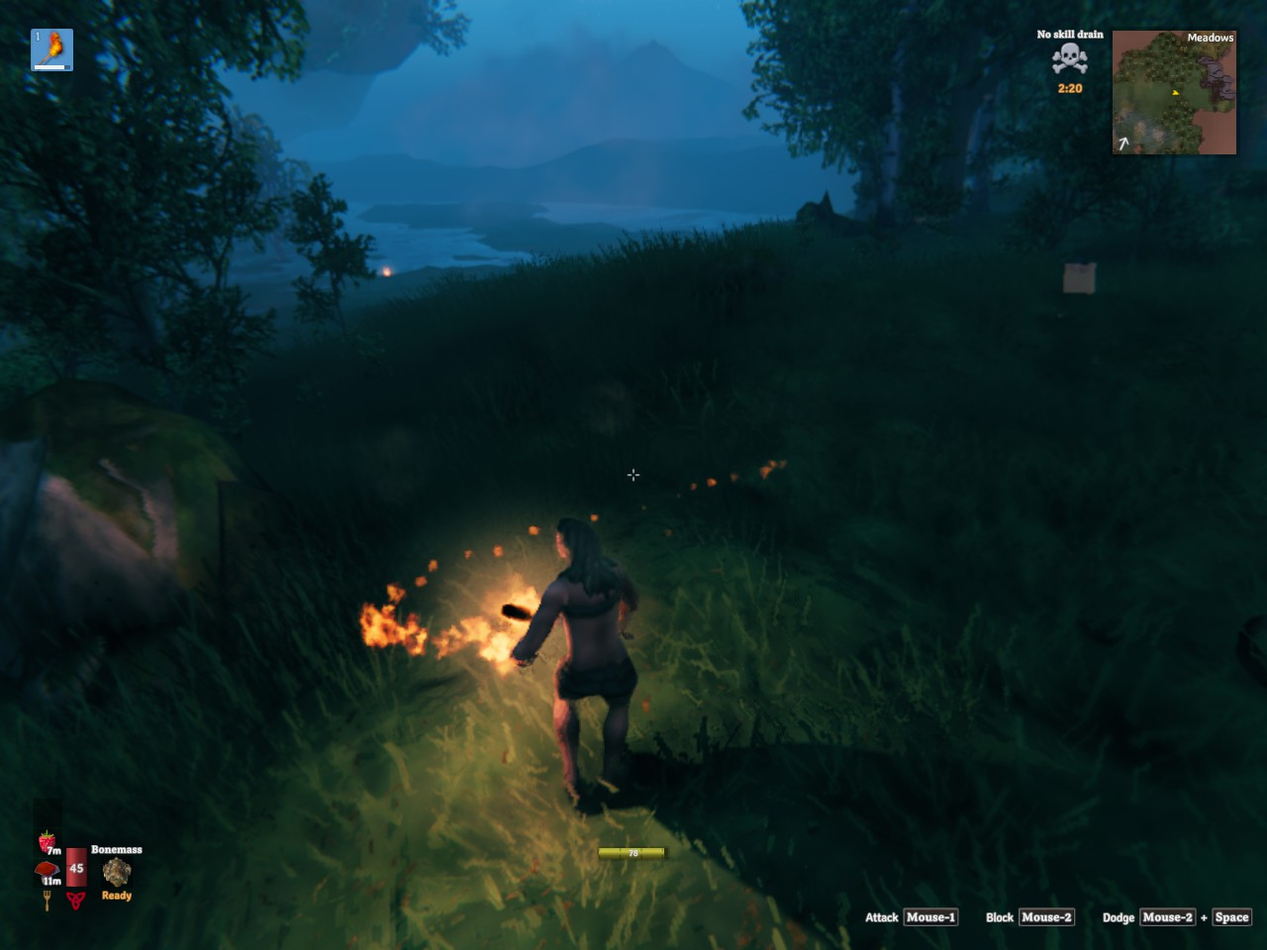Torch: (501, 605, 532, 619)
